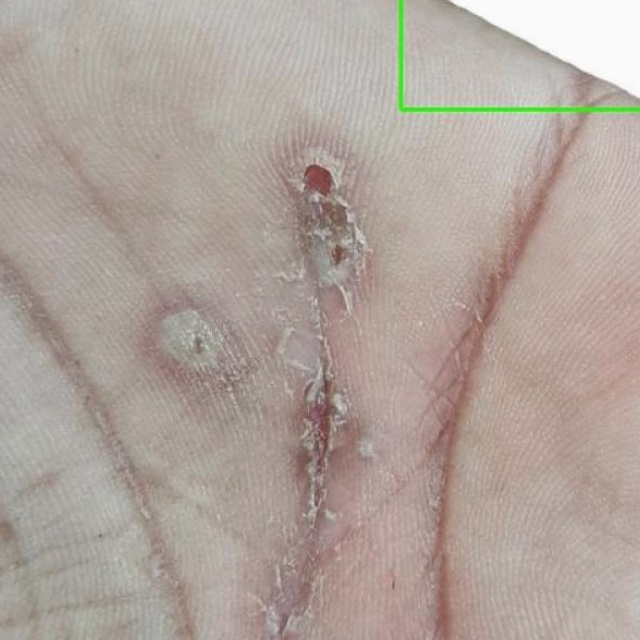Scabies: (400, 0, 639, 109)
